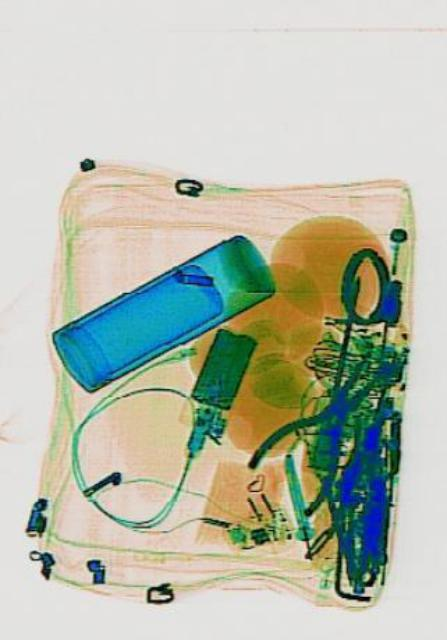Pliers: (242, 322, 404, 532)
